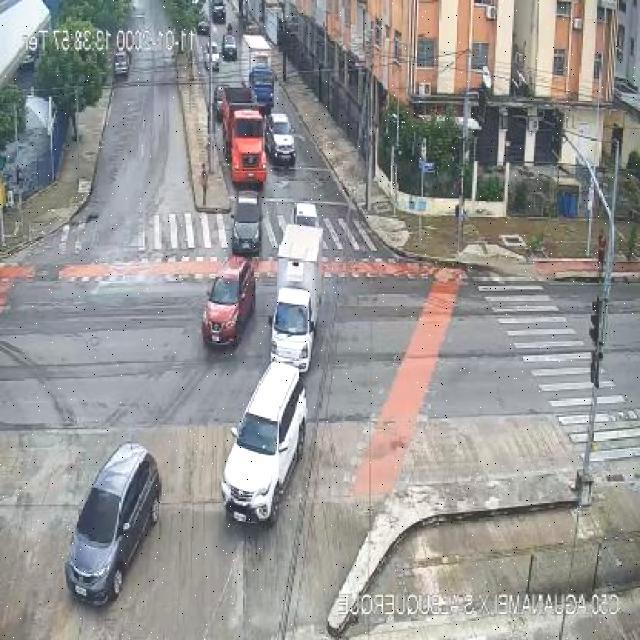Car: (61, 445, 164, 604), (219, 365, 309, 529), (196, 255, 255, 348), (230, 188, 266, 254), (266, 110, 296, 166), (203, 42, 219, 72), (223, 34, 238, 59)
Truck: (264, 220, 322, 376), (221, 88, 269, 190), (240, 32, 278, 109)
